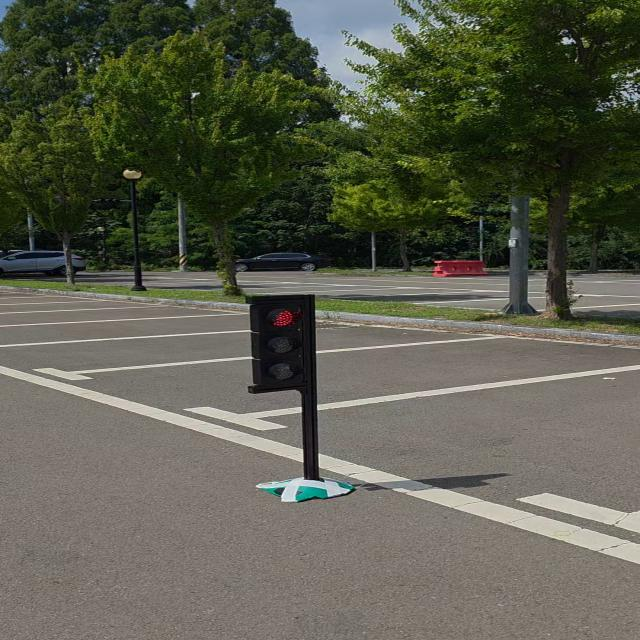red: (237, 293, 320, 392)
